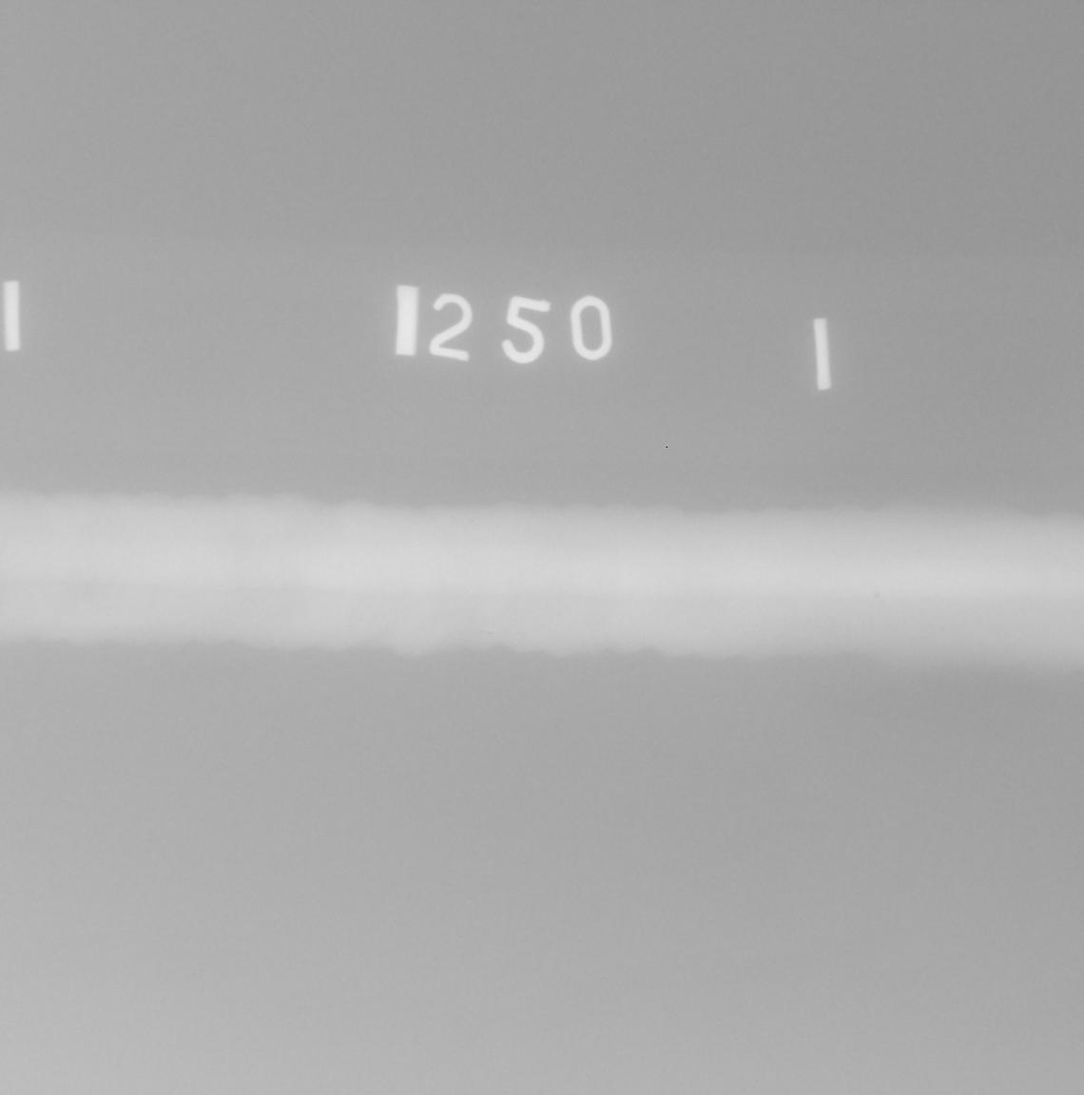Inclusion: (480, 631, 495, 634), (517, 632, 526, 635)
Pore/Porosity: (874, 592, 880, 600), (339, 564, 344, 569), (881, 601, 885, 605)
